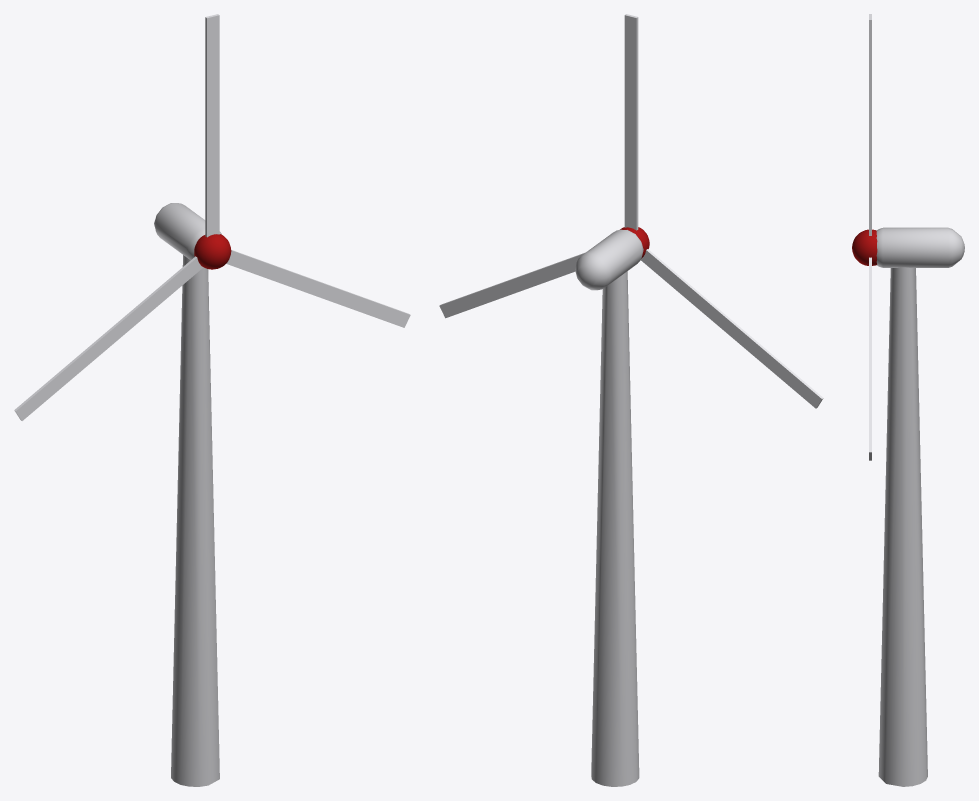
The model's file is wind-turbine-animated.glb.
3 renders of one model, left to right at view 1: azimuth 30°, elevation 25°; view 2: azimuth 150°, elevation 25°; view 3: azimuth 270°, elevation 25°, orthographic. The views are drawn at different scales.
Visible parts, largest first — view 1: Tower, Blade 2, Blade 1, Blade 3, Nacelle, Rotor; view 2: Tower, Blade 1, Blade 2, Nacelle, Blade 3; view 3: Tower, Nacelle, Rotor, Blade 1, Blade 3.
Part boxes in pixels (x1=…): Tower: x1=171, y1=255, x2=219, y2=786; Blade 2: x1=14, y1=256, x2=203, y2=420; Blade 1: x1=205, y1=14, x2=219, y2=237; Blade 3: x1=226, y1=250, x2=410, y2=327; Nacelle: x1=154, y1=203, x2=221, y2=260; Rotor: x1=194, y1=234, x2=231, y2=269; Tower: x1=591, y1=271, x2=639, y2=786; Blade 1: x1=624, y1=14, x2=638, y2=230; Blade 2: x1=641, y1=249, x2=823, y2=408; Nacelle: x1=575, y1=229, x2=643, y2=290; Blade 3: x1=439, y1=252, x2=585, y2=318; Tower: x1=878, y1=267, x2=927, y2=786; Nacelle: x1=876, y1=227, x2=964, y2=267; Rotor: x1=852, y1=229, x2=877, y2=265; Blade 1: x1=869, y1=14, x2=871, y2=235; Blade 3: x1=869, y1=257, x2=871, y2=460.
Size of the model in its own units: 1.09 by 2.04 by 0.275.
